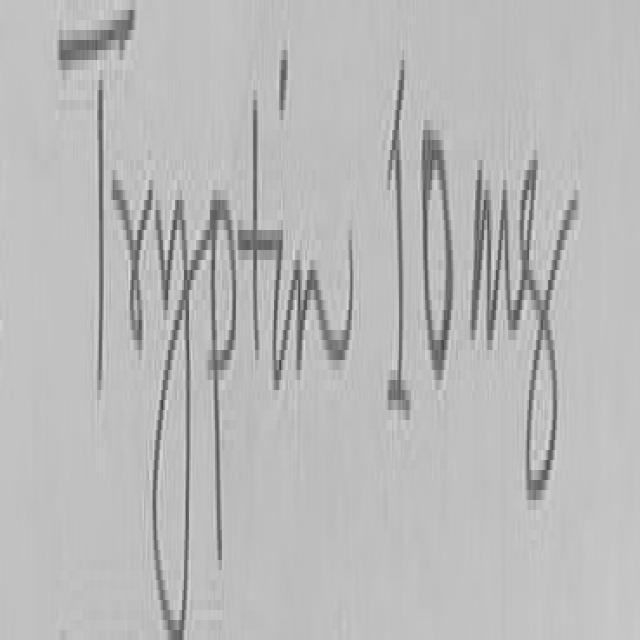0: (425, 130, 454, 375)
1: (389, 60, 409, 415)
T: (60, 2, 133, 386)
g: (521, 156, 578, 495)
i: (272, 226, 292, 403), (279, 50, 287, 115)
m: (472, 159, 514, 335)
n: (286, 245, 354, 370)
p: (210, 189, 238, 573)
r: (115, 169, 155, 359)
t: (238, 100, 277, 373)
y: (153, 200, 189, 635)
